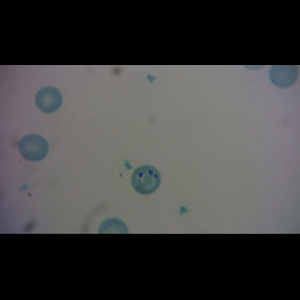erythrocyte: (130, 164, 163, 196), (16, 132, 50, 163), (34, 86, 64, 115)
